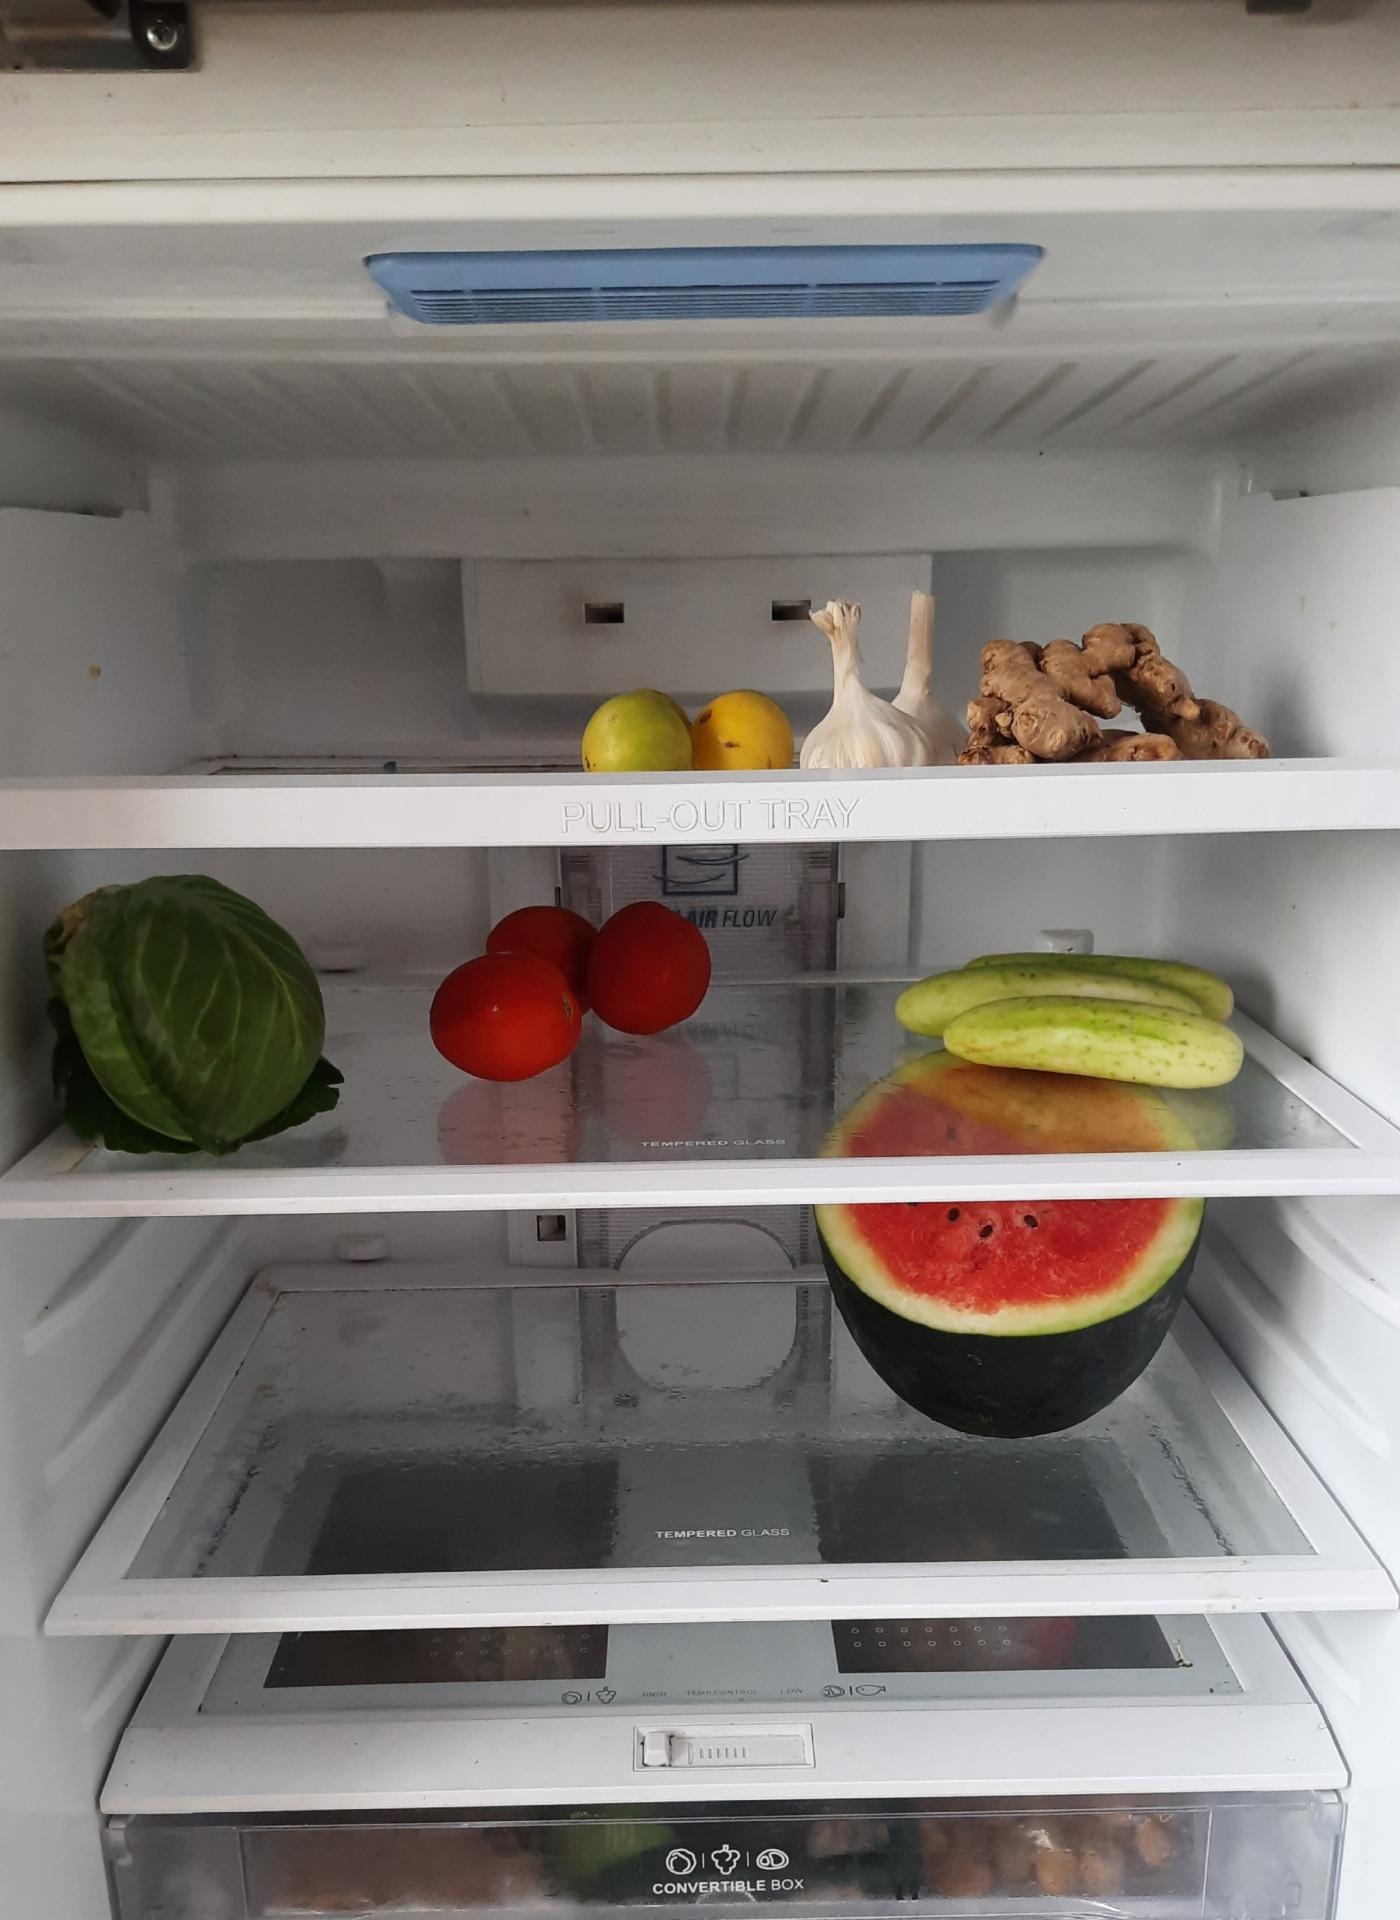cabbage: (52, 878, 335, 1152)
cucumber: (890, 957, 1243, 1093)
garlic: (805, 583, 950, 769)
ginger: (969, 629, 1275, 774)
lemon: (583, 678, 802, 777)
tomato: (429, 899, 713, 1072)
watermelon: (811, 1084, 1197, 1441)
